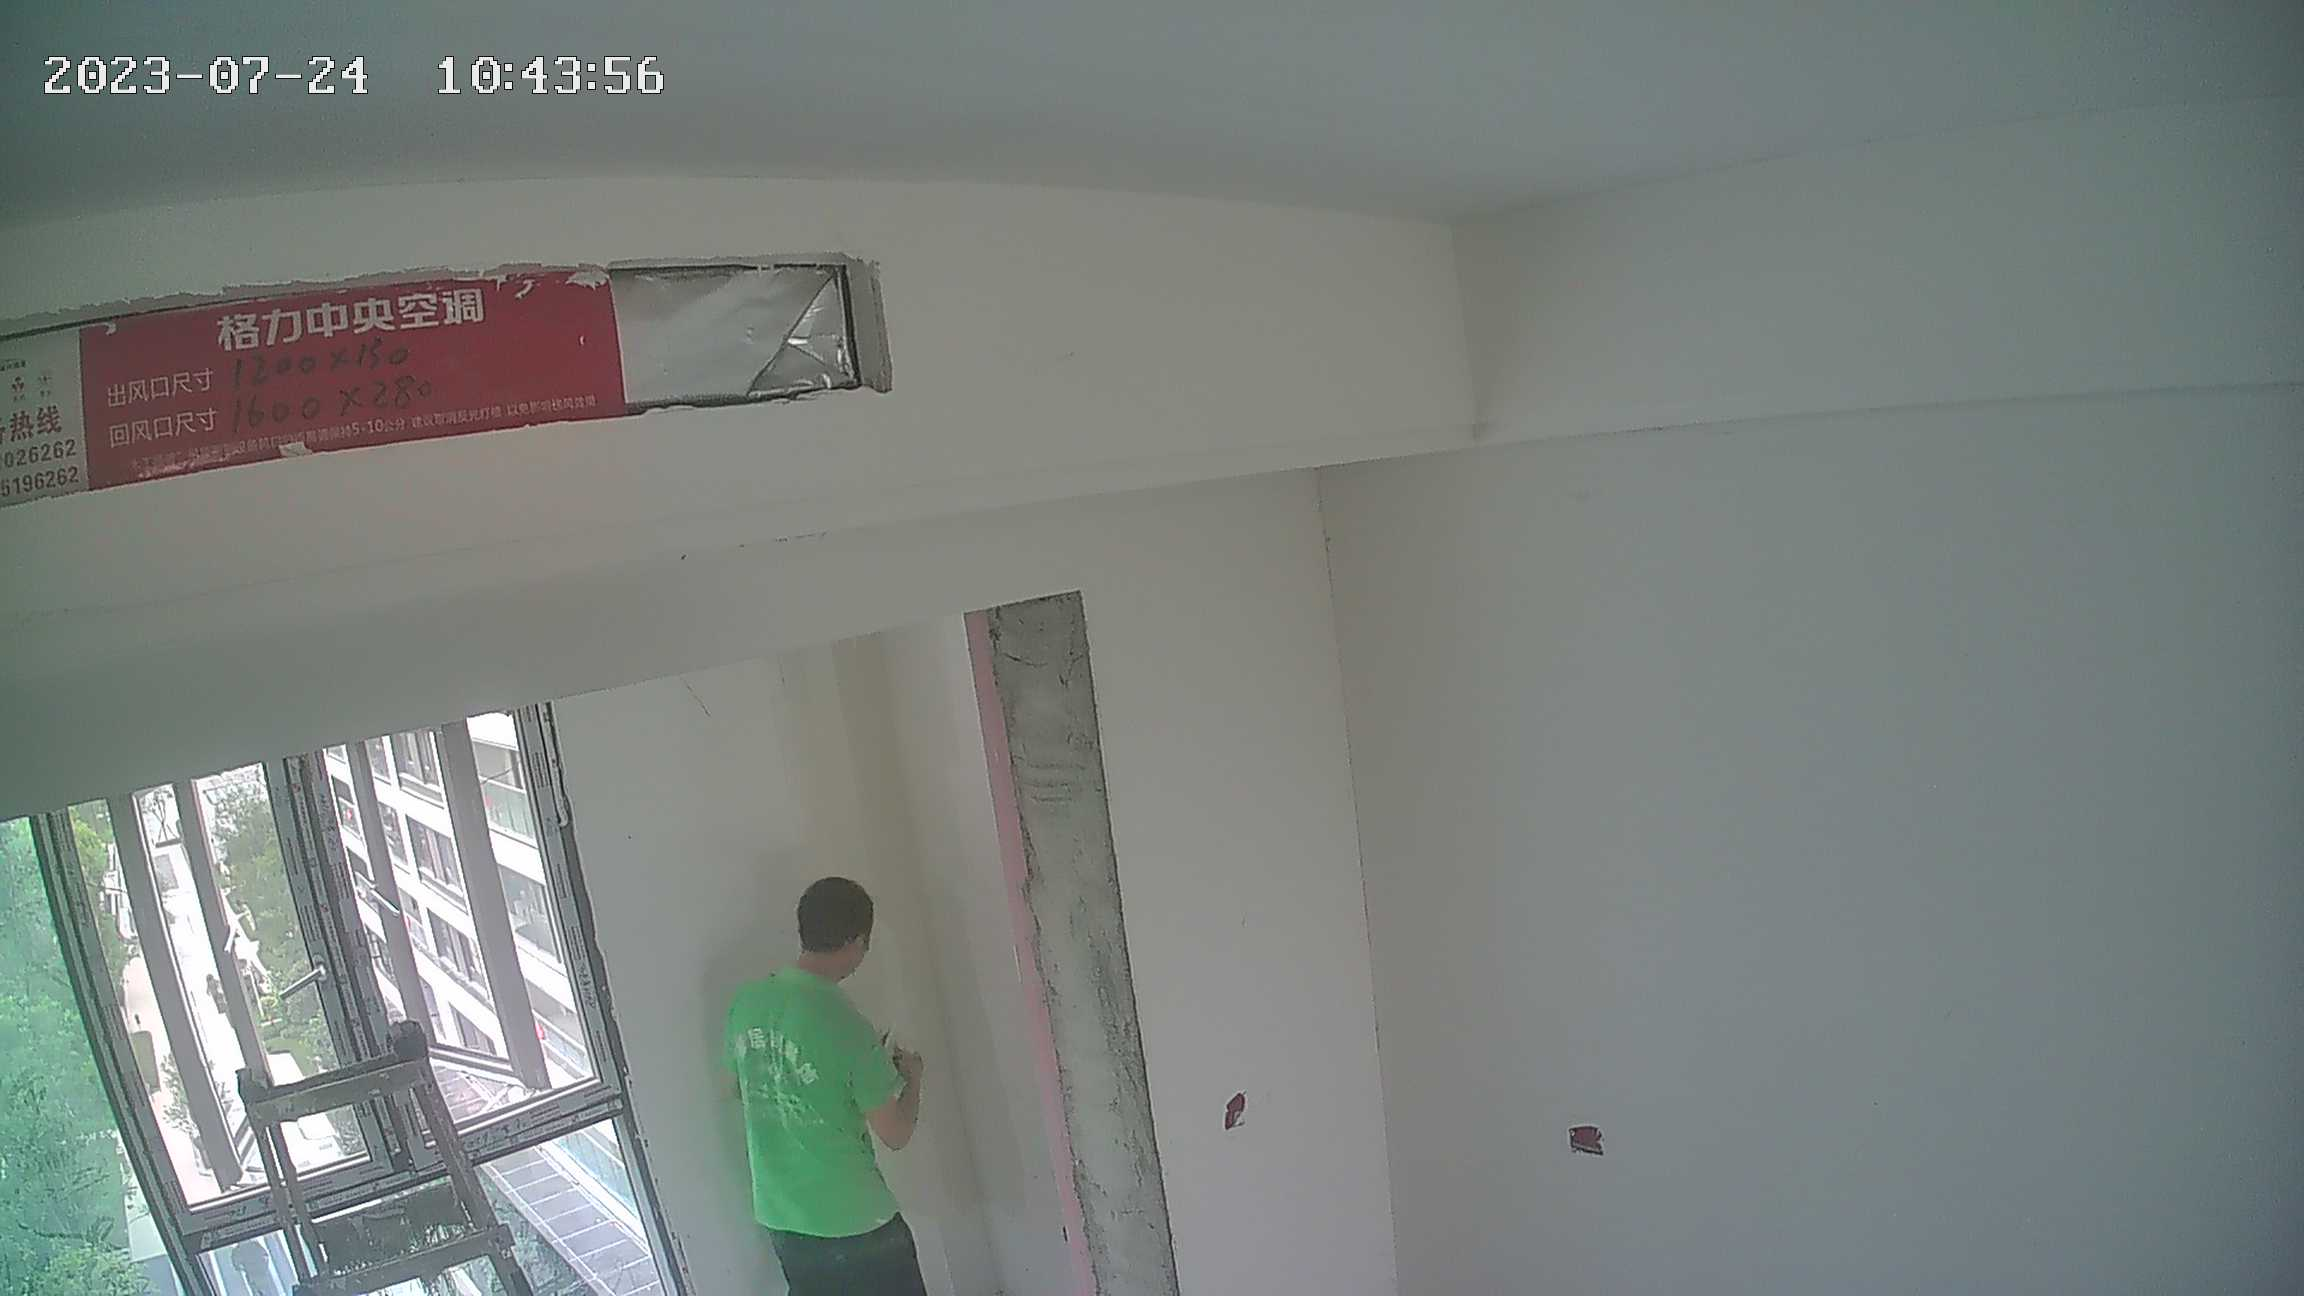people: (717, 871, 939, 1296)
window: (1, 768, 656, 1296)
